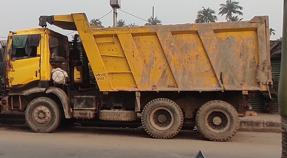Truck: (7, 13, 272, 142)
